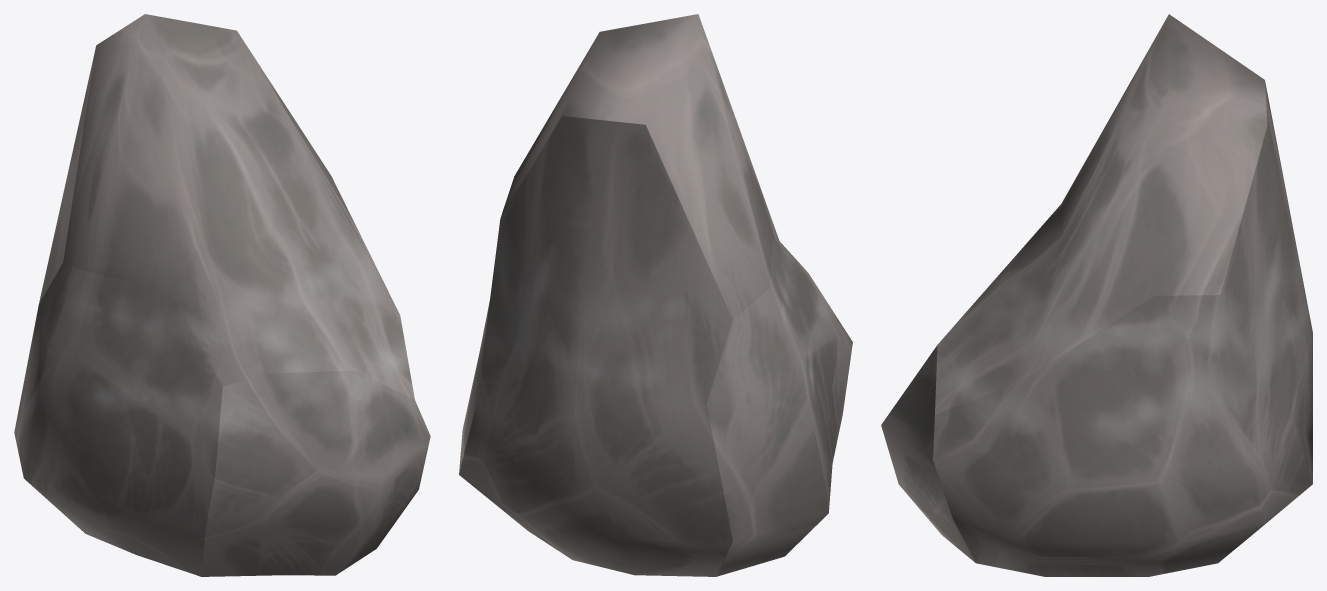
The model's file is Rock_B.fbx.
3 views of the same model, side by side, from view 1: azimuth 30°, elevation 25°; view 2: azimuth 150°, elevation 25°; view 3: azimuth 270°, elevation 25° (orthographic). The views are drawn at different scales.
Parts seen in each view (by area): view 1: Rock_B; view 2: Rock_B; view 3: Rock_B.
Boxes of the visible parts, x1,y1,x2,y2 form: Rock_B: (14, 14, 430, 576); Rock_B: (459, 14, 852, 576); Rock_B: (881, 14, 1312, 576).
Size of the model in its own units: 80.91 by 116 by 92.13.
